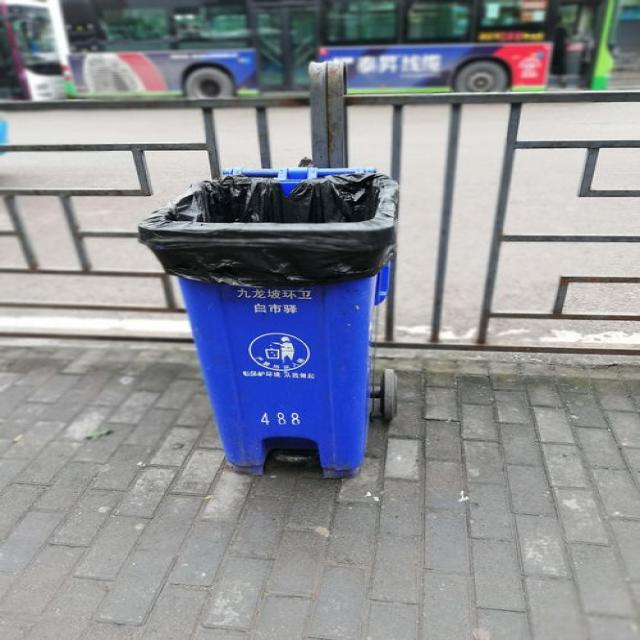garbage_bin: (133, 164, 398, 476)
